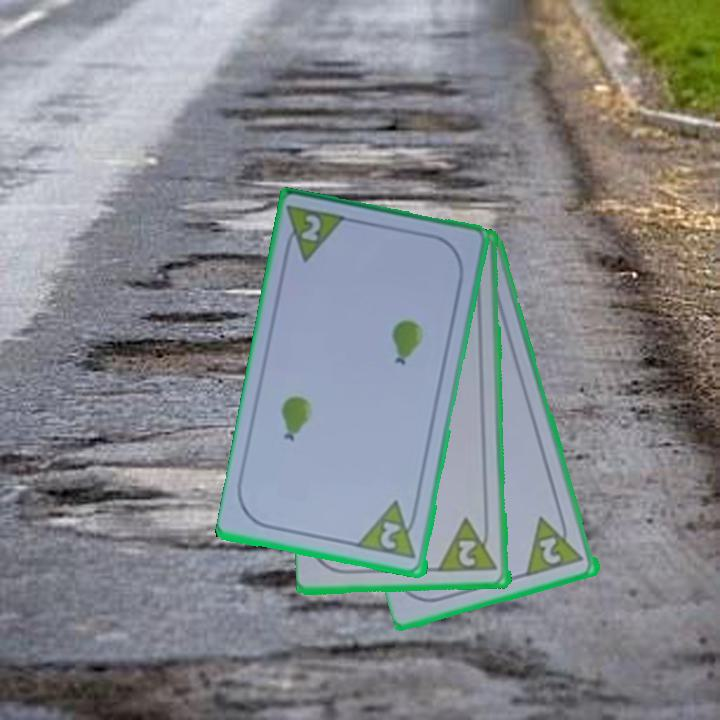2p: (280, 202, 351, 267), (524, 509, 588, 579), (356, 498, 422, 563), (455, 537, 479, 570)
